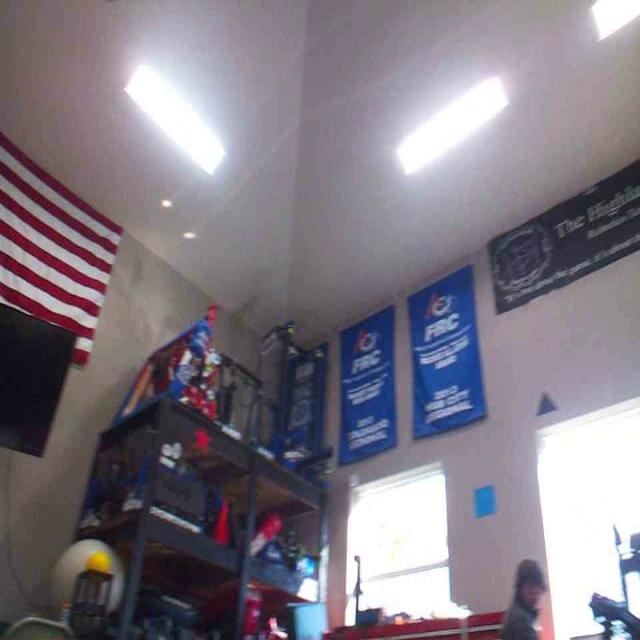square_blue: (472, 482, 494, 517)
star_red: (194, 425, 209, 451)
triangle_black: (534, 389, 556, 415)
